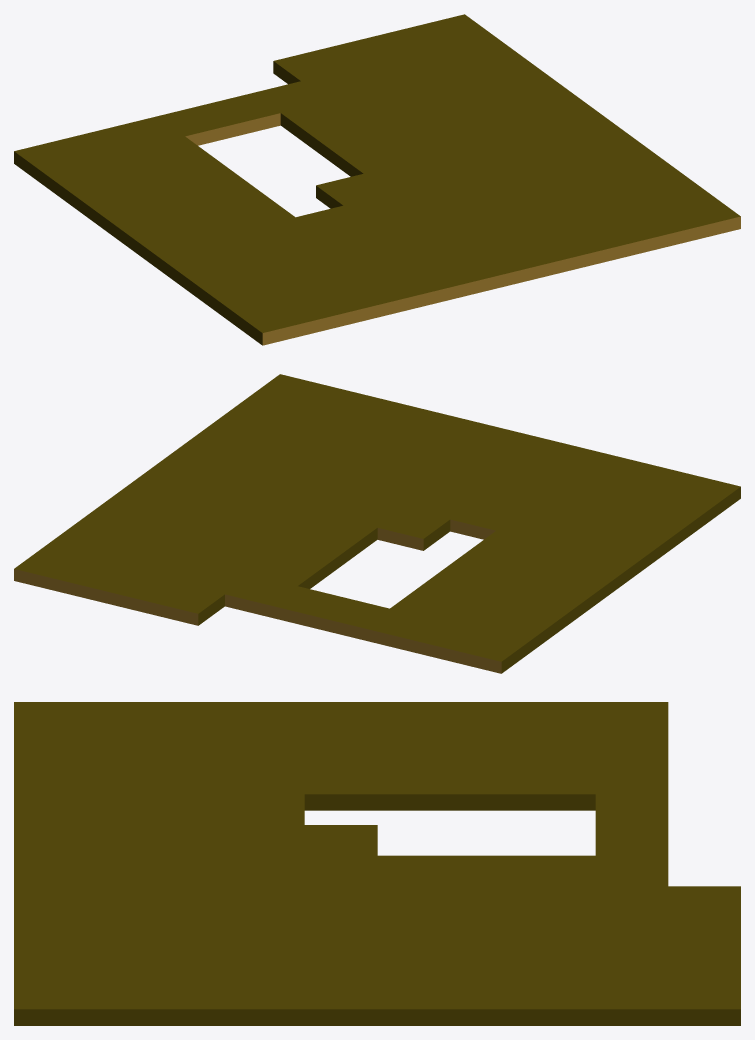
File: cubo_3.FBX
3 renders of one model, top to bottom at view 1: azimuth 30°, elevation 25°; view 2: azimuth 150°, elevation 25°; view 3: azimuth 270°, elevation 25°, orthographic. The views are drawn at different scales.
Visible parts, largest first — view 1: Box001; view 2: Box001; view 3: Box001.
Part boxes in pixels (x1=…): Box001: x1=14, y1=14, x2=740, y2=345; Box001: x1=14, y1=374, x2=740, y2=673; Box001: x1=14, y1=702, x2=740, y2=1025.
Size of the model in its own units: 10 by 0.25 by 10.
